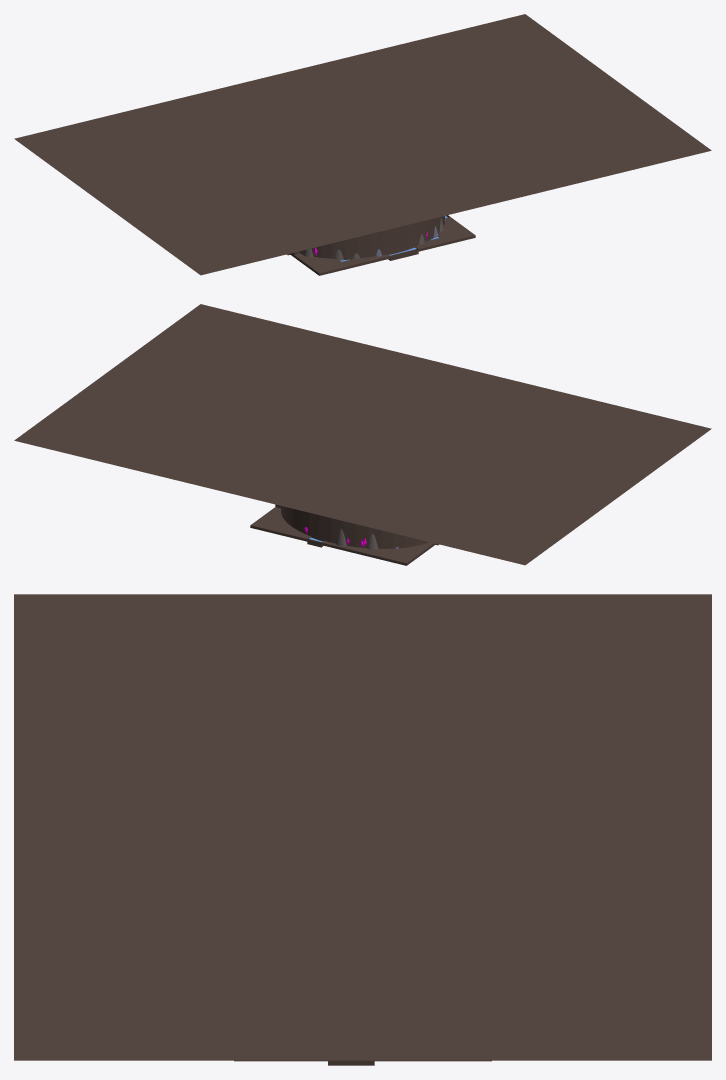
Rendered from crystal cave.fbx.
3 renders of one model, top to bottom at view 1: azimuth 30°, elevation 25°; view 2: azimuth 150°, elevation 25°; view 3: azimuth 270°, elevation 25°, orthographic. The views are drawn at different scales.
Visible parts, largest first — view 1: top, Cylinder, Cube; view 2: top, Cylinder, Cube; view 3: top.
Part boxes in pixels (x1,y1,x2,y2): top: [14, 14, 711, 275]; Cylinder: [300, 216, 444, 259]; Cube: [287, 215, 475, 275]; top: [14, 304, 711, 565]; Cylinder: [281, 506, 429, 548]; Cube: [250, 504, 438, 565]; top: [14, 594, 711, 1060].
Size of the model in its own units: 6236 by 3943 by 1172.
